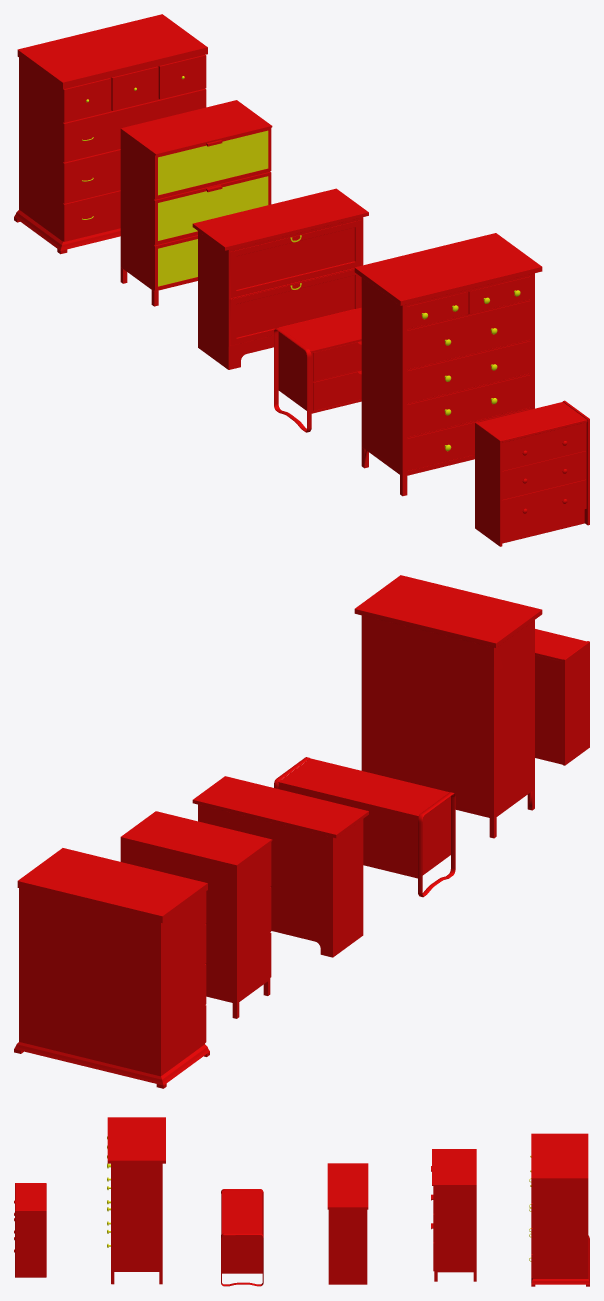
The model's file is RoboTHOR_dressers_grp.fbx.
The picture shows the model from 3 angles, top to bottom: view 1: azimuth 30°, elevation 25°; view 2: azimuth 150°, elevation 25°; view 3: azimuth 270°, elevation 25°; orthographic projection. The views are drawn at different scales.
Visible parts, largest first — view 1: robothor_dresser_hemnes, robothor_dresser_birkeland, robothor_dresser_aspelund, robothor_dresser_aneboda, robothor_dresser_rast, robothor_dresser_drawer_1_aspelund, robothor_dresser_drawer_2_aspelund, robothor_dresser_anes, robothor_dresser_drawer_1_aneboda, robothor_dresser_drawer_3_hemnes, robothor_dresser_drawer_2_aneboda, robothor_dresser_drawer_4_hemnes (+16 smaller); view 2: robothor_dresser_birkeland, robothor_dresser_hemnes, robothor_dresser_aspelund, robothor_dresser_aneboda, robothor_dresser_anes, robothor_dresser_rast; view 3: robothor_dresser_birkeland, robothor_dresser_hemnes, robothor_dresser_aneboda, robothor_dresser_aspelund, robothor_dresser_anes, robothor_dresser_rast.
Part boxes in pixels (left/top/right/bottom): robothor_dresser_hemnes: left=354, top=233, right=542, bottom=496; robothor_dresser_birkeland: left=14, top=14, right=207, bottom=254; robothor_dresser_aspelund: left=192, top=188, right=368, bottom=369; robothor_dresser_aneboda: left=120, top=100, right=272, bottom=306; robothor_dresser_rast: left=475, top=400, right=589, bottom=546; robothor_dresser_drawer_1_aspelund: left=230, top=220, right=361, bottom=297; robothor_dresser_drawer_2_aspelund: left=230, top=269, right=361, bottom=345; robothor_dresser_anes: left=274, top=307, right=361, bottom=432; robothor_dresser_drawer_1_aneboda: left=154, top=128, right=271, bottom=199; robothor_dresser_drawer_3_hemnes: left=407, top=301, right=530, bottom=369; robothor_dresser_drawer_2_aneboda: left=154, top=171, right=271, bottom=244; robothor_dresser_drawer_4_hemnes: left=407, top=341, right=530, bottom=403; robothor_dresser_birkeland: left=14, top=848, right=209, bottom=1088; robothor_dresser_hemnes: left=354, top=575, right=542, bottom=838; robothor_dresser_aspelund: left=192, top=776, right=368, bottom=957; robothor_dresser_aneboda: left=120, top=811, right=272, bottom=1018; robothor_dresser_anes: left=274, top=757, right=455, bottom=897; robothor_dresser_rast: left=535, top=629, right=589, bottom=765; robothor_dresser_birkeland: left=531, top=1133, right=589, bottom=1286; robothor_dresser_hemnes: left=107, top=1117, right=165, bottom=1284; robothor_dresser_aneboda: left=432, top=1149, right=476, bottom=1281; robothor_dresser_aspelund: left=327, top=1163, right=368, bottom=1284; robothor_dresser_anes: left=221, top=1189, right=263, bottom=1286; robothor_dresser_rast: left=15, top=1183, right=46, bottom=1277.
Bounding box in the file's own units: 103 × 130 × 545.
